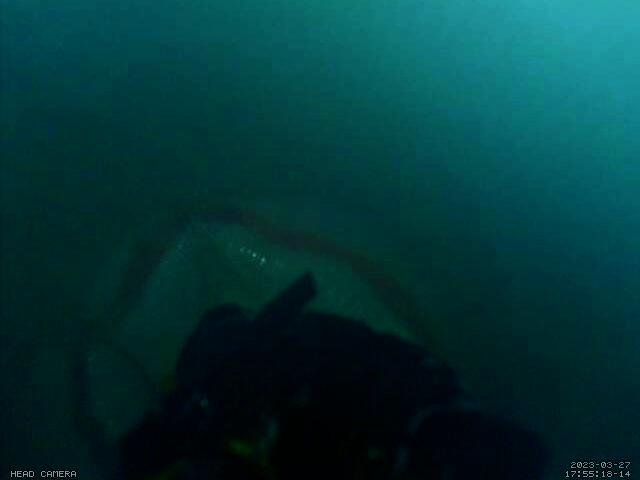head: (66, 205, 441, 480)
